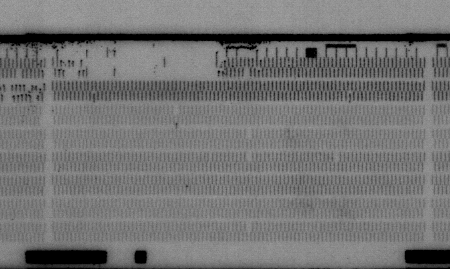Broken hole: (61, 56, 225, 82), (242, 149, 254, 163), (240, 68, 252, 80), (13, 69, 25, 81), (172, 102, 182, 116), (331, 150, 341, 164), (243, 221, 254, 233), (242, 129, 254, 139)
Oblique printing: (2, 83, 48, 105), (255, 58, 266, 80), (88, 91, 100, 105), (344, 91, 355, 104)
